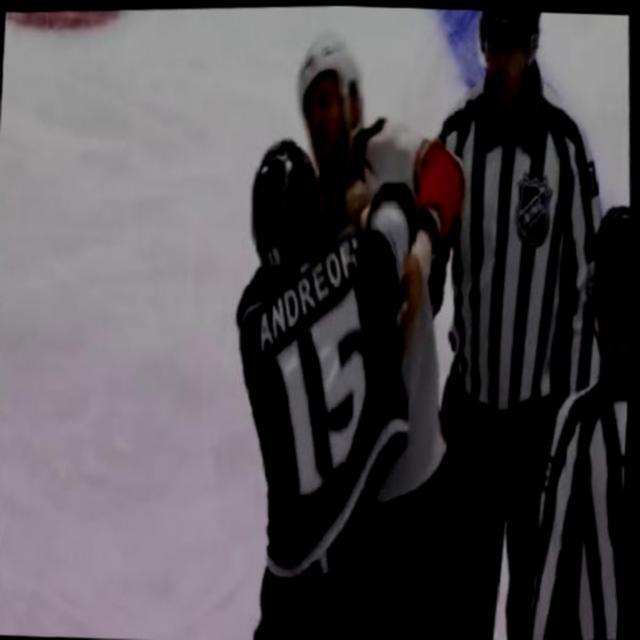fight: (209, 14, 498, 640)
